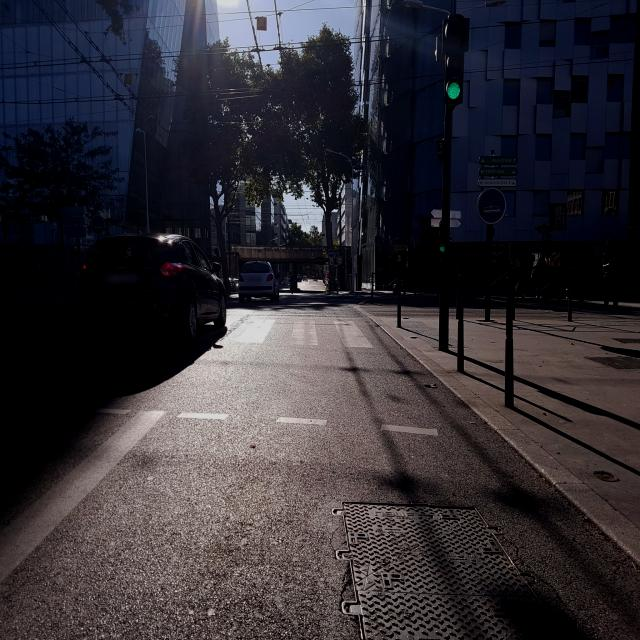car: (76, 233, 227, 349), (238, 260, 280, 304)
